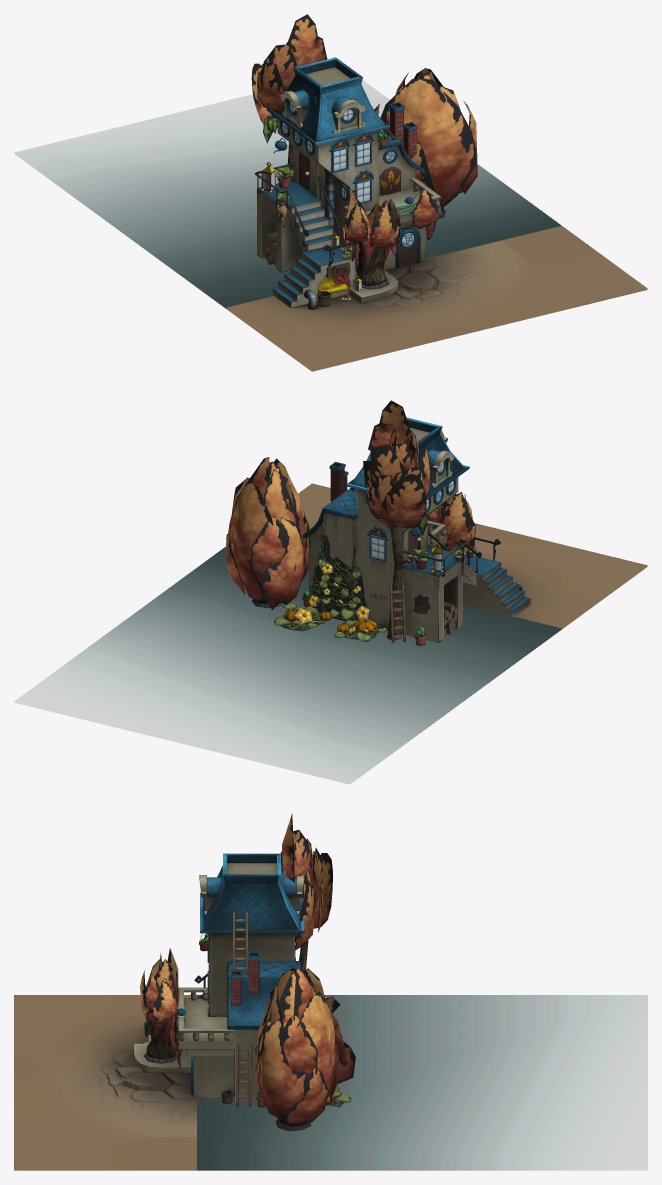
File: teahouse.glb
3 views of the same model, one above another, from view 1: azimuth 30°, elevation 25°; view 2: azimuth 150°, elevation 25°; view 3: azimuth 270°, elevation 25° (orthographic). The views are drawn at different scales.
Parts seen in each view (by area): view 1: Object_5, Object_2, Object_3, Object_4; view 2: Object_5, Object_2, Object_3, Object_4; view 3: Object_5, Object_3, Object_2.
Boxes of the visible parts, box(x1,y1,x2,y2) form: Object_5: box(14, 14, 647, 371); Object_2: box(255, 57, 443, 309); Object_3: box(257, 59, 445, 307); Object_4: box(265, 92, 439, 302); Object_5: box(14, 400, 647, 784); Object_2: box(255, 417, 530, 642); Object_3: box(252, 426, 530, 645); Object_4: box(293, 440, 518, 634); Object_5: box(14, 814, 647, 1170); Object_3: box(134, 855, 333, 1131); Object_2: box(134, 853, 307, 1126).
Size of the model in its own units: 165 by 109 by 254.
Materials: 2 (2 with a texture image).
